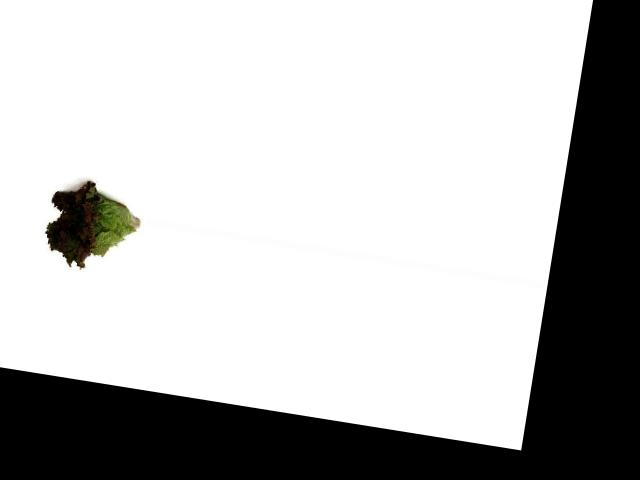lettuce: (28, 165, 148, 280)
